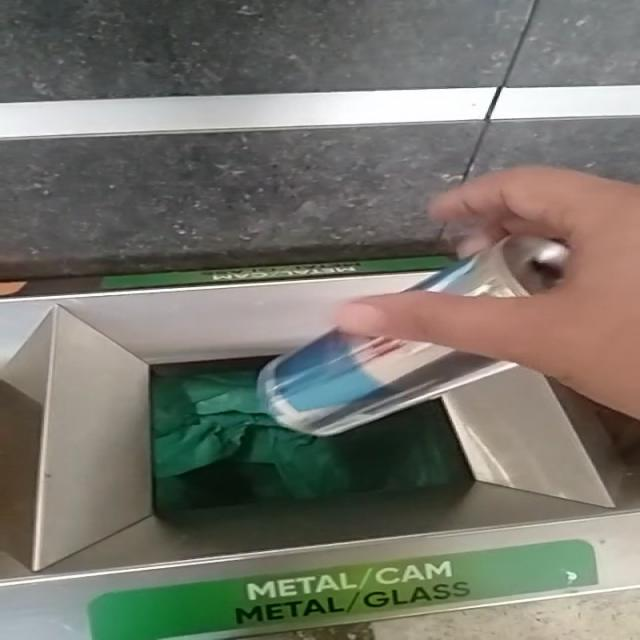bin: (1, 272, 640, 640)
metal: (257, 330, 516, 436), (411, 244, 529, 297)
